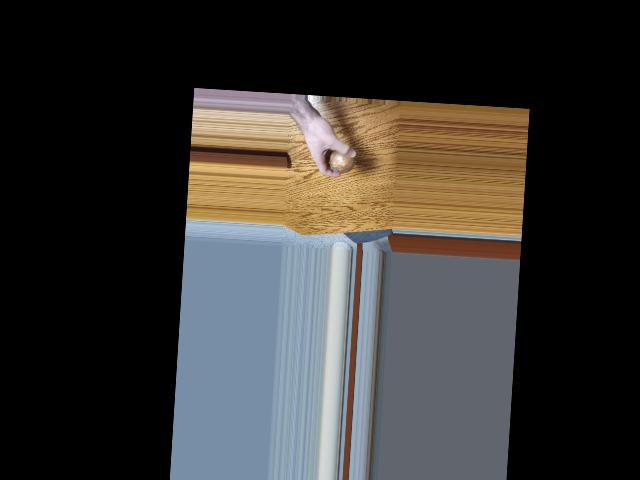onion: (329, 146, 355, 174)
